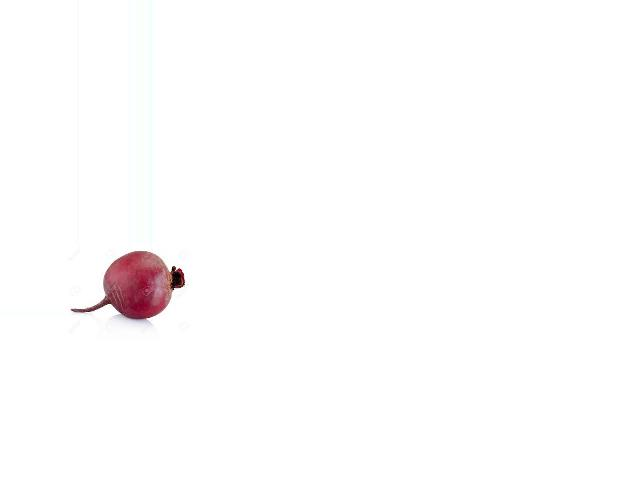beet: (71, 251, 184, 319)
